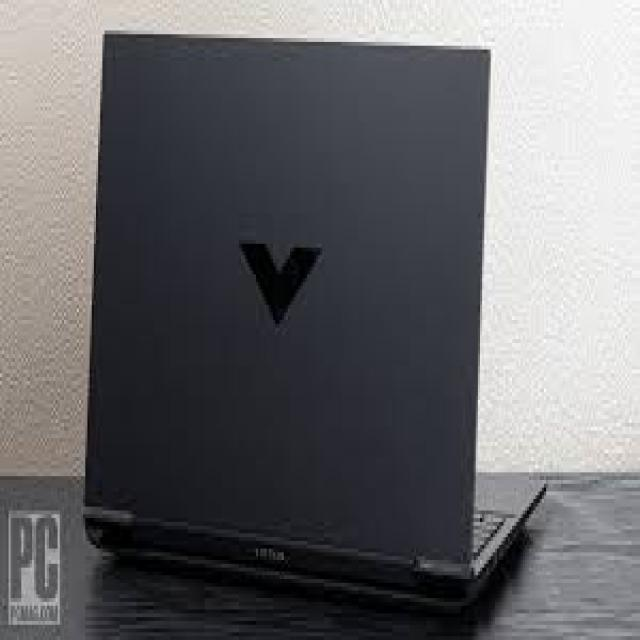others: (74, 4, 554, 613)
